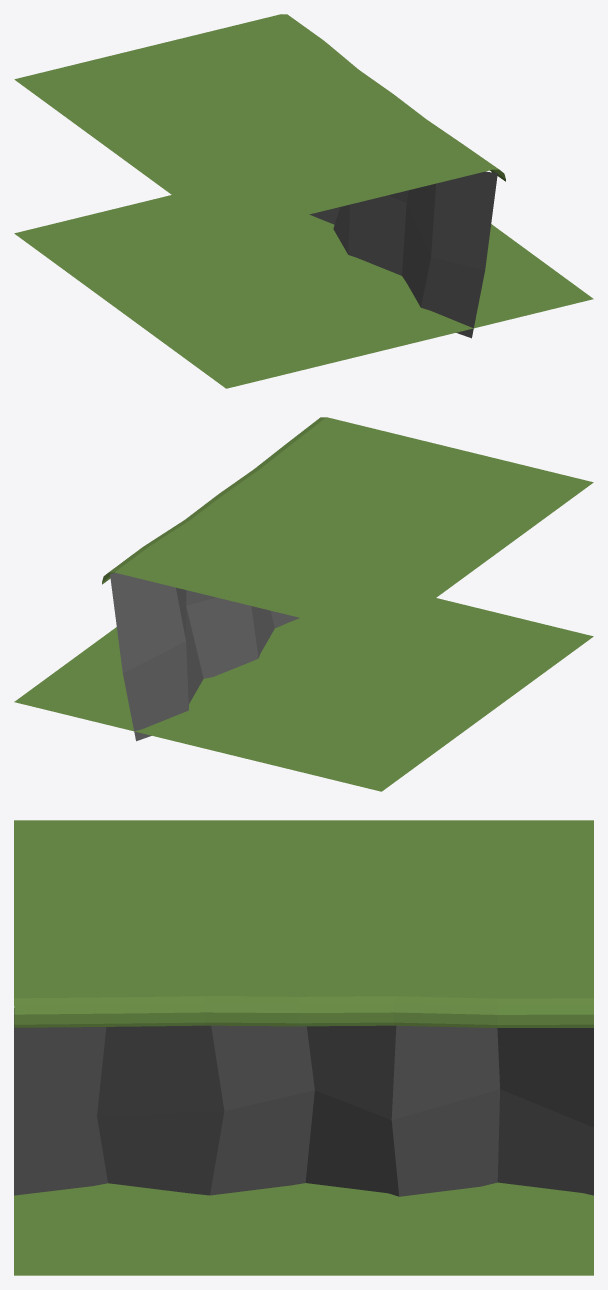
Rendered from cliff_L1.fbx.
3 views of the same model, one above another, from view 1: azimuth 30°, elevation 25°; view 2: azimuth 150°, elevation 25°; view 3: azimuth 270°, elevation 25° (orthographic). The views are drawn at different scales.
Parts seen in each view (by area): view 1: Plane.020; view 2: Plane.020; view 3: Plane.020.
Boxes of the visible parts, box(x1,y1,x2,y2) form: Plane.020: box(14, 14, 593, 388); Plane.020: box(14, 417, 593, 791); Plane.020: box(14, 820, 593, 1275).
Bounding box in the file's own units: 200 × 200 × 86.42.
